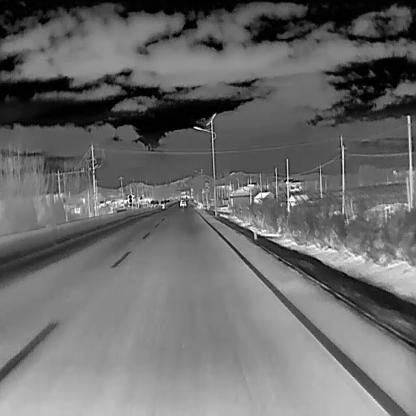car: (179, 198, 186, 206), (154, 199, 158, 206), (150, 199, 154, 206), (160, 200, 164, 206)
